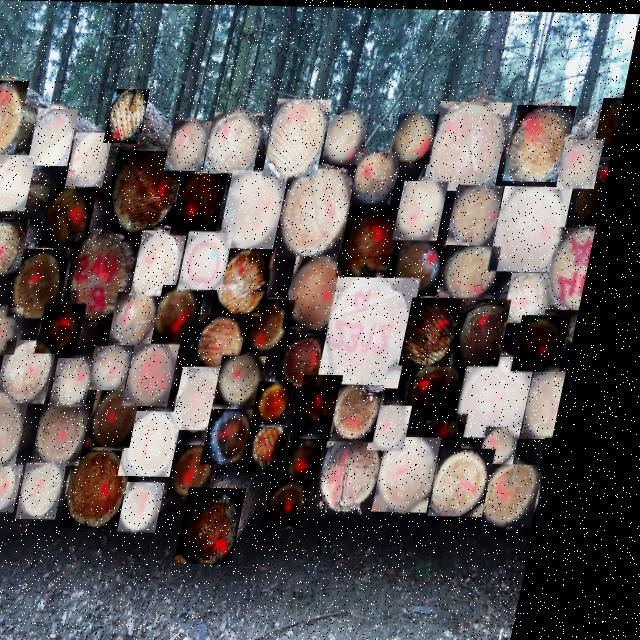wood-log: (332, 275, 432, 386), (429, 99, 516, 189), (284, 167, 366, 258), (498, 183, 580, 270), (73, 232, 152, 321), (111, 150, 192, 234), (470, 353, 550, 436), (82, 449, 159, 528), (509, 102, 581, 179), (197, 486, 267, 563), (227, 170, 296, 248), (269, 97, 336, 176), (334, 439, 404, 513), (393, 434, 460, 510), (347, 204, 417, 276), (295, 256, 363, 328), (449, 445, 514, 514), (19, 248, 81, 318), (554, 224, 605, 307), (224, 248, 287, 315), (414, 295, 475, 364), (463, 296, 524, 364), (138, 410, 200, 476), (501, 462, 563, 527), (420, 356, 484, 418), (12, 339, 74, 403), (209, 112, 269, 175), (51, 402, 109, 465), (188, 366, 246, 429), (142, 229, 197, 295), (179, 173, 235, 236), (49, 187, 105, 248), (455, 183, 511, 244), (139, 343, 194, 405), (399, 237, 457, 294), (165, 284, 218, 346), (204, 313, 261, 370), (526, 312, 583, 369), (451, 244, 511, 298), (402, 179, 456, 238), (104, 388, 158, 447), (189, 231, 243, 289), (0, 398, 46, 466), (348, 382, 401, 440), (220, 407, 274, 463), (538, 369, 581, 436), (290, 333, 343, 387), (34, 108, 83, 166), (256, 297, 308, 351), (122, 291, 174, 345), (38, 462, 87, 519), (229, 355, 282, 407), (187, 444, 237, 496), (50, 303, 100, 354), (515, 270, 564, 321), (73, 132, 119, 186), (0, 80, 33, 155), (109, 88, 154, 143), (0, 155, 43, 212), (396, 111, 444, 162), (358, 151, 406, 202), (139, 481, 186, 532), (171, 119, 217, 170), (285, 478, 332, 527), (312, 373, 359, 422), (563, 136, 609, 186), (328, 113, 374, 163), (261, 425, 308, 472), (0, 219, 39, 275), (66, 357, 110, 406), (0, 463, 43, 512), (103, 345, 148, 390), (386, 403, 429, 449), (439, 411, 485, 453), (302, 437, 344, 483), (582, 165, 615, 223), (0, 307, 37, 355), (269, 380, 310, 423), (597, 95, 626, 154), (498, 424, 538, 462), (0, 348, 12, 400), (558, 435, 570, 469)
